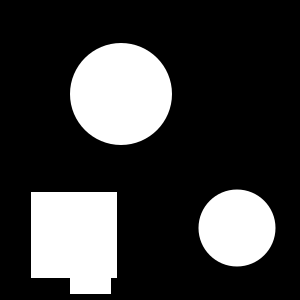circle: (31, 192, 117, 278), (70, 253, 111, 294)
rectangle: (70, 43, 172, 145), (199, 190, 276, 266)
